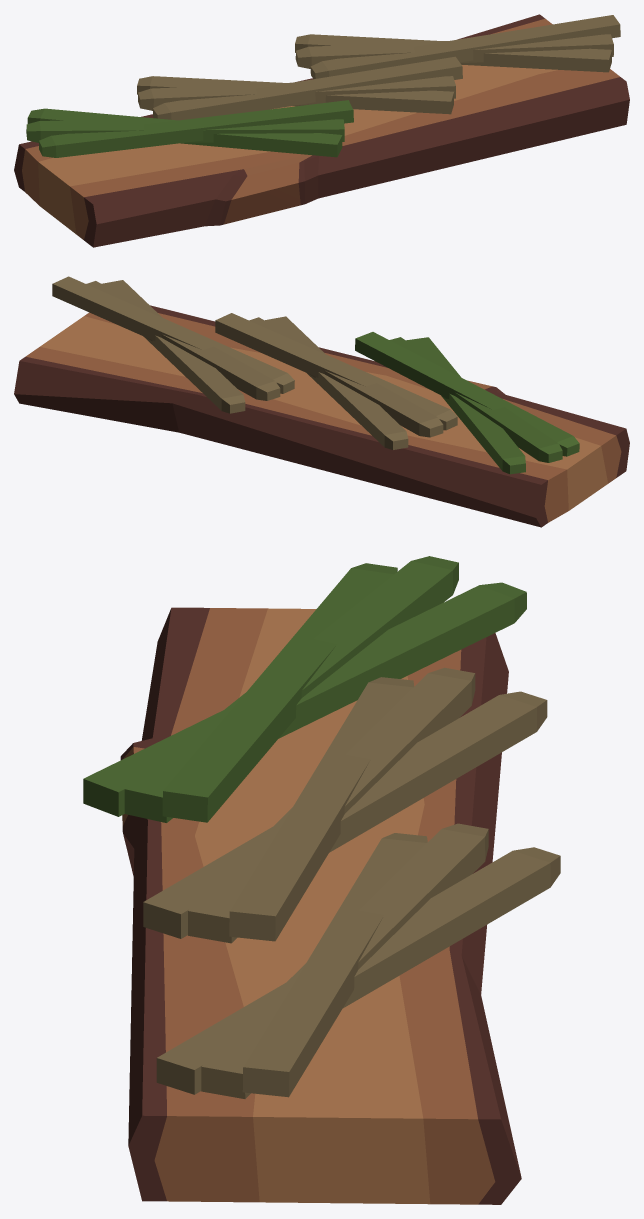
Rendered from drying_flax_1.fbx.
3 renders of one model, top to bottom at view 1: azimuth 30°, elevation 25°; view 2: azimuth 150°, elevation 25°; view 3: azimuth 270°, elevation 25°, orthographic. The views are drawn at different scales.
Parts seen in each view (by area): view 1: plank, dry_flax.001; view 2: plank, dry_flax.001; view 3: plank, dry_flax.001.
Boxes of the visible parts, x1,y1,x2,y2 form: plank: (14,14,629,247); dry_flax.001: (26,15,620,157); plank: (14,305,629,527); dry_flax.001: (52,276,579,474); plank: (120,607,521,1204); dry_flax.001: (83,556,560,1098).
Bounding box in the file's own units: 85.98 × 11.46 × 32.51.
